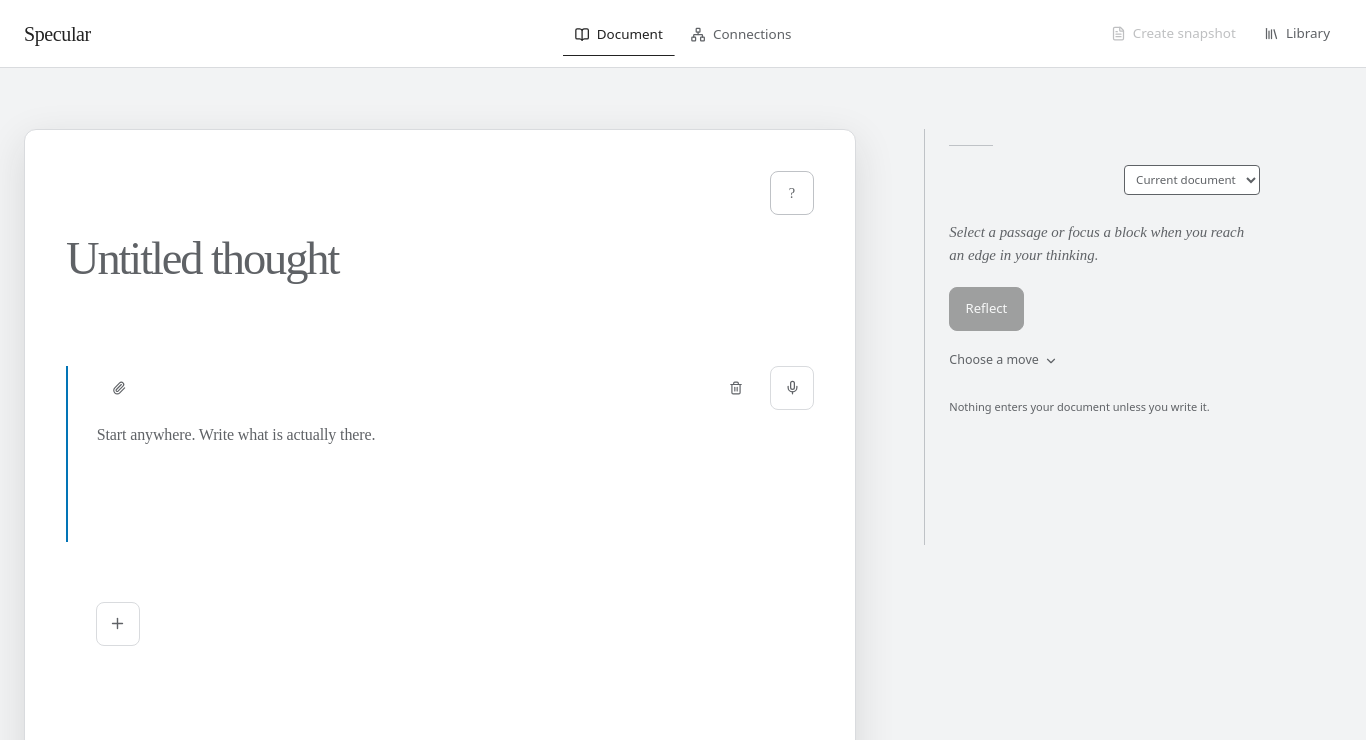
Test case: Specular thinking workspace › blocks application activation while active dictation still has uncheckpointed speech
Click the button named "Start dictation" at x=792, y=388, box [770,366,814,410]
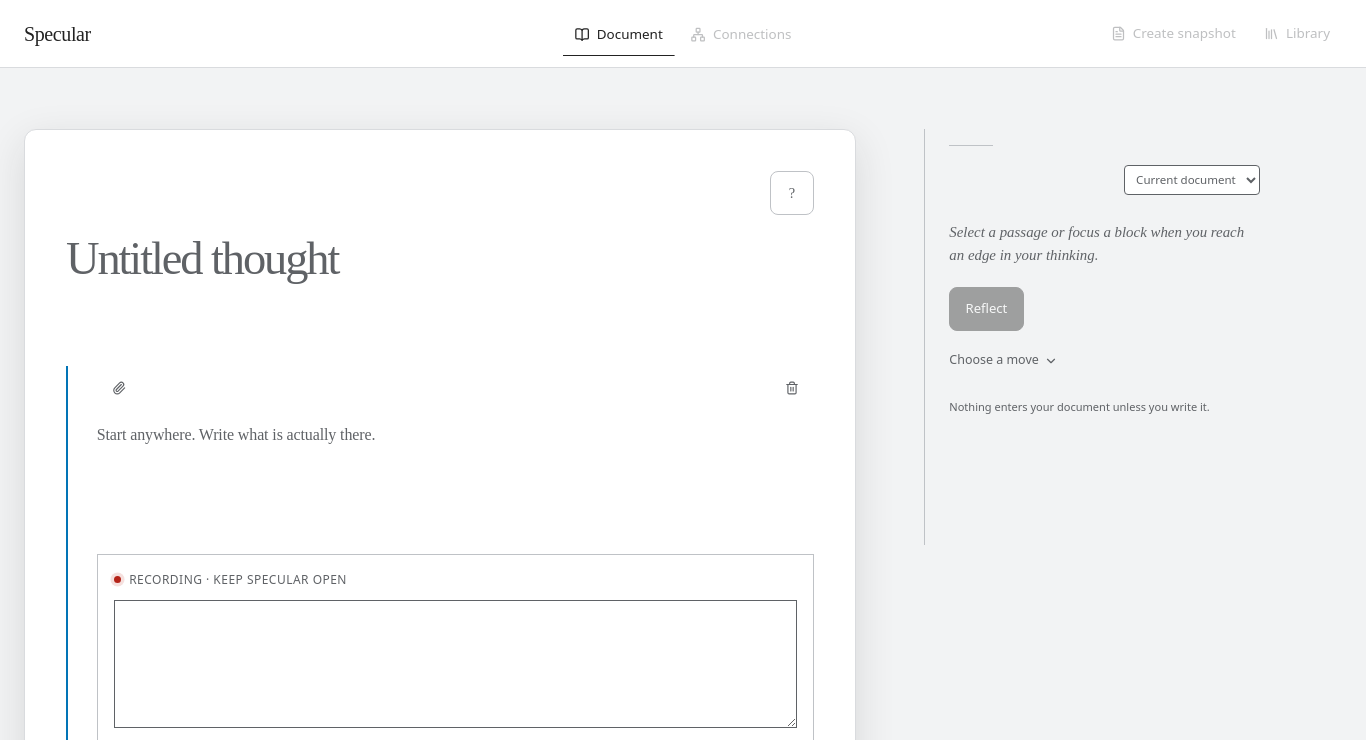
Check: the text "Recording · keep Specular open" is shown, box [114,571,347,588]
